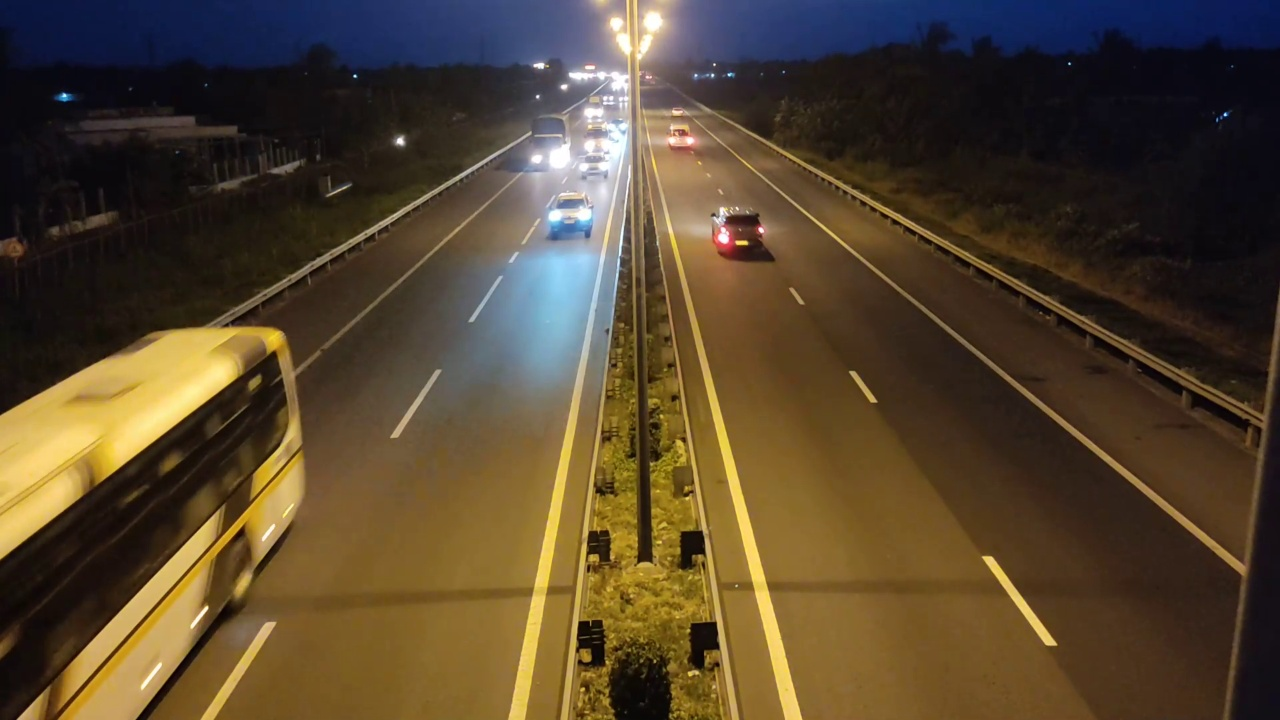bus: (1, 325, 309, 711)
car: (710, 206, 769, 259), (545, 191, 595, 241), (665, 125, 697, 151)
